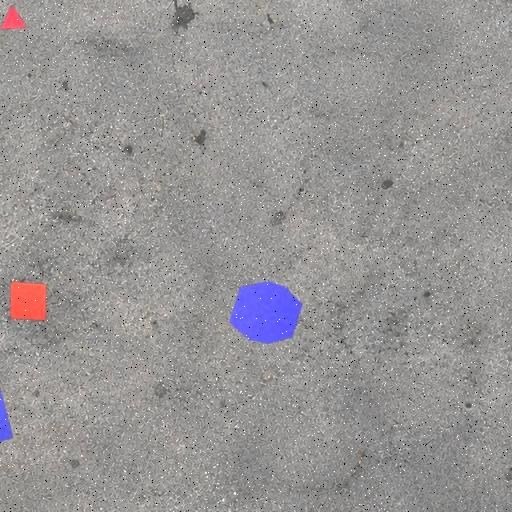RED_SQUARE: (10, 280, 47, 322)
